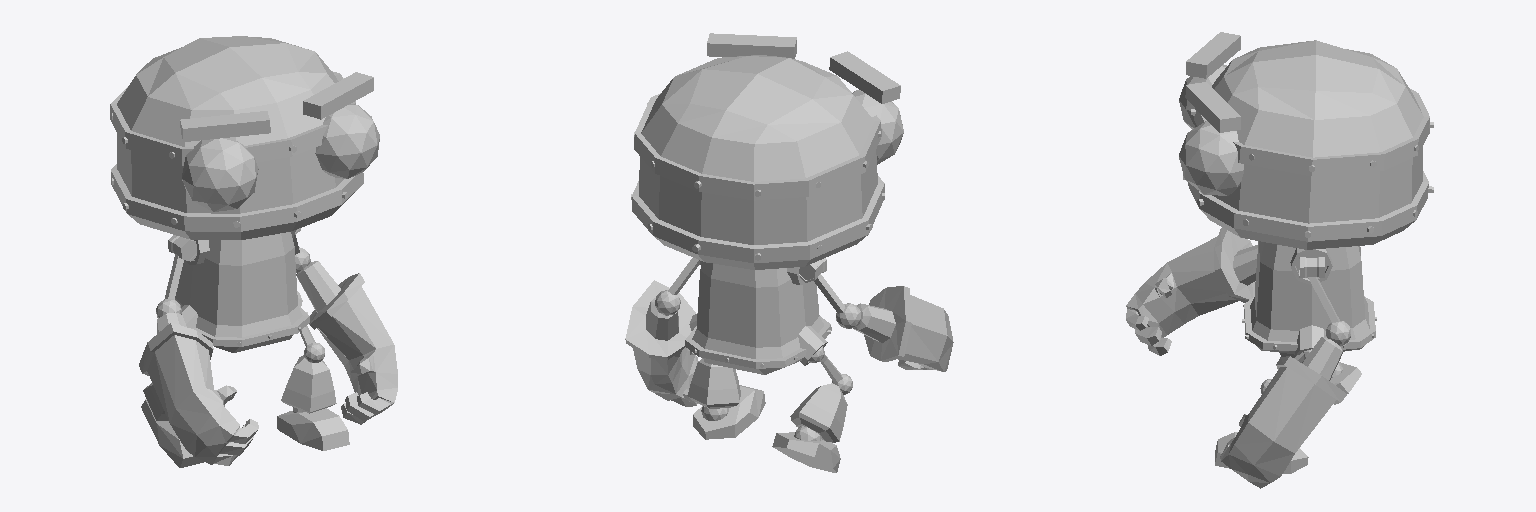
File: Robot_000006.obj
The picture shows the model from 3 angles: view 1: azimuth 30°, elevation 25°; view 2: azimuth 150°, elevation 25°; view 3: azimuth 270°, elevation 25°; orthographic projection.
Parts seen in each view (by area): view 1: Head_Cylinder, Torso_Cube.001, Hand.R_Cylinder.015, Hand.L_Cylinder.022, Foot.L_Cylinder.014, LowerLeg.L_Cylinder.012, Foot.R_Cylinder.017, Arm.R_Cylinder.013, Shoulder.R_Cylinder.009, Leg.L_Cylinder.011; view 2: Head_Cylinder, Torso_Cube.001, Hand.R_Cylinder.015, Hand.L_Cylinder.022, LowerLeg.R_Cylinder.018, LowerLeg.L_Cylinder.012, Foot.L_Cylinder.014, Foot.R_Cylinder.017, Arm.L_Cylinder.010, Arm.R_Cylinder.013; view 3: Head_Cylinder, Torso_Cube.001, Hand.L_Cylinder.022, Hand.R_Cylinder.015, Arm.L_Cylinder.010, Foot.L_Cylinder.014, Foot.R_Cylinder.017.
Part boxes in pixels (x1,y1,x2,y2): Head_Cylinder: (110, 36, 379, 239); Torso_Cube.001: (175, 230, 309, 352); Hand.R_Cylinder.015: (139, 312, 258, 465); Hand.L_Cylinder.022: (296, 261, 397, 424); Foot.L_Cylinder.014: (277, 408, 349, 450); LowerLeg.L_Cylinder.012: (281, 355, 336, 413); Foot.R_Cylinder.017: (141, 399, 203, 467); Arm.R_Cylinder.013: (156, 254, 183, 317); Shoulder.R_Cylinder.009: (168, 235, 197, 261); Leg.L_Cylinder.011: (300, 326, 324, 362); Head_Cylinder: (631, 33, 903, 269); Torso_Cube.001: (685, 260, 831, 374); Hand.R_Cylinder.015: (853, 286, 953, 371); Hand.L_Cylinder.022: (625, 280, 697, 406); LowerLeg.R_Cylinder.018: (790, 383, 847, 442); LowerLeg.L_Cylinder.012: (687, 359, 740, 420); Foot.L_Cylinder.014: (693, 385, 765, 439); Foot.R_Cylinder.017: (772, 432, 840, 472); Arm.L_Cylinder.010: (655, 258, 699, 315); Arm.R_Cylinder.013: (814, 274, 861, 328); Head_Cylinder: (1179, 32, 1433, 249); Torso_Cube.001: (1242, 241, 1376, 361); Hand.L_Cylinder.022: (1220, 337, 1346, 488); Hand.R_Cylinder.015: (1126, 227, 1257, 355); Arm.L_Cylinder.010: (1308, 277, 1350, 345); Foot.L_Cylinder.014: (1215, 432, 1308, 473); Foot.R_Cylinder.017: (1330, 362, 1361, 393).
Bounding box in the file's own units: 3.04 × 4.41 × 3.13.